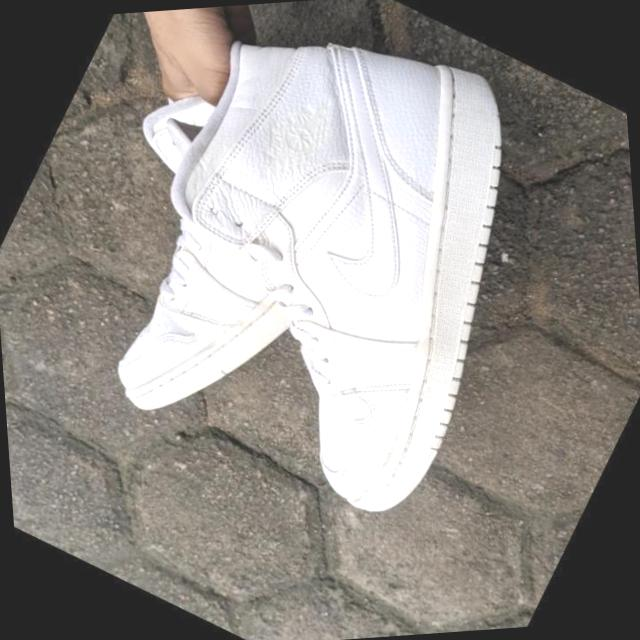nike_fake_jordan: (16, 0, 630, 558)
